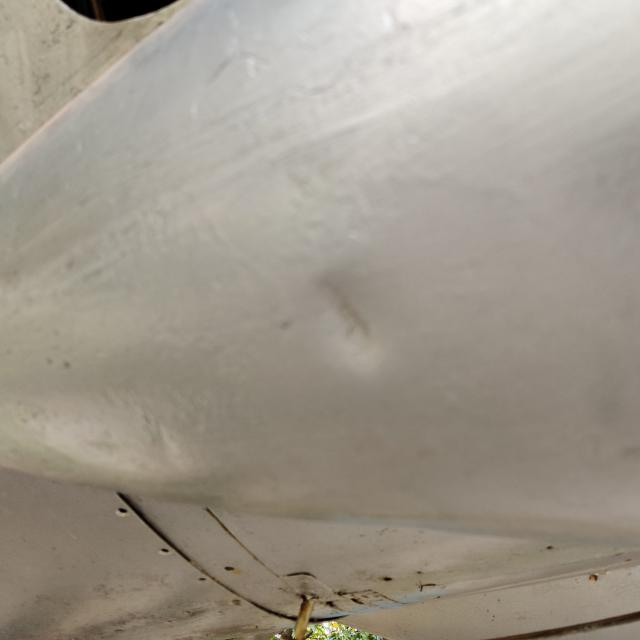dent: (279, 254, 414, 375)
